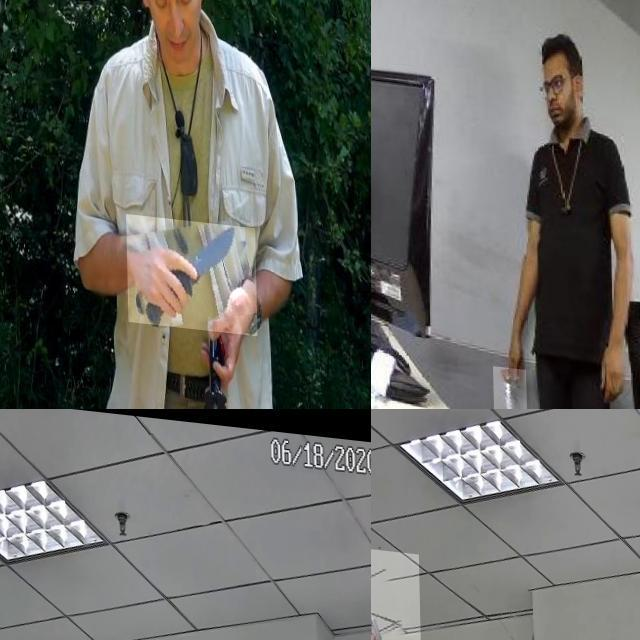-: (124, 207, 256, 326), (490, 360, 524, 409)
gun-knife-thesis - v11 Yolov5 augmented: (371, 543, 421, 640)
